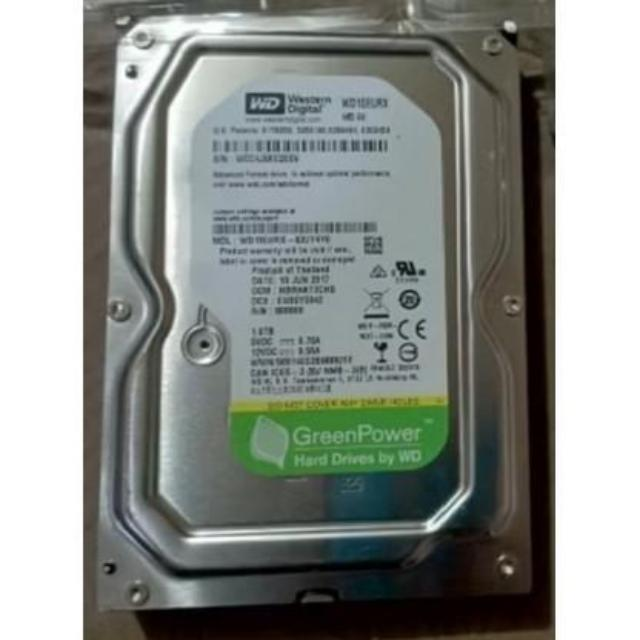DISK: (100, 9, 535, 618)
